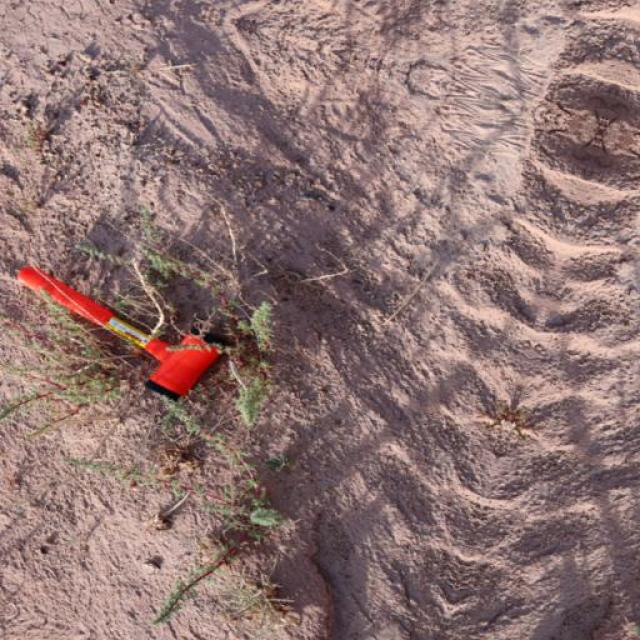mallet: (18, 261, 228, 401)
